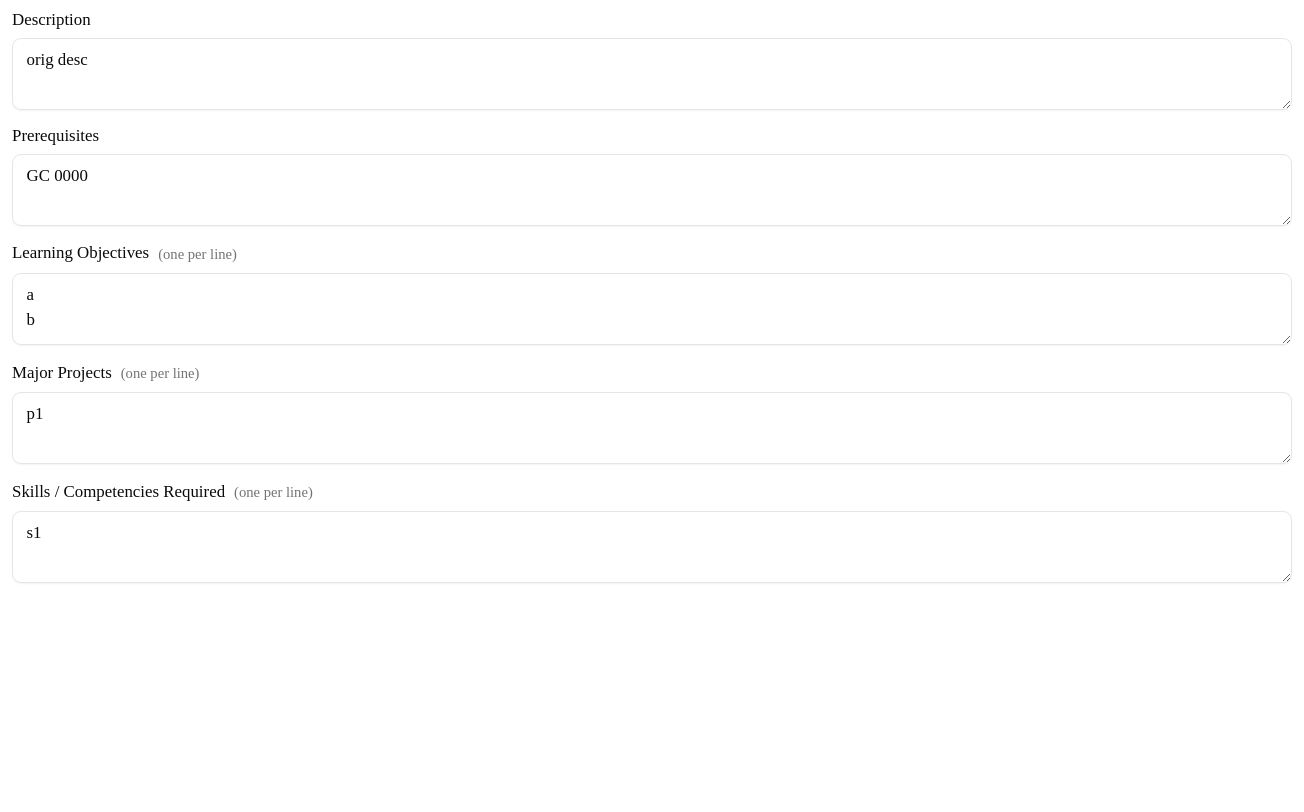
it: CourseDetails › shows Edited badge when description is changed and resets via the link
Replace the text in the text box labelled "Description" with "changed": x=652, y=74 [12,38,1292,110]
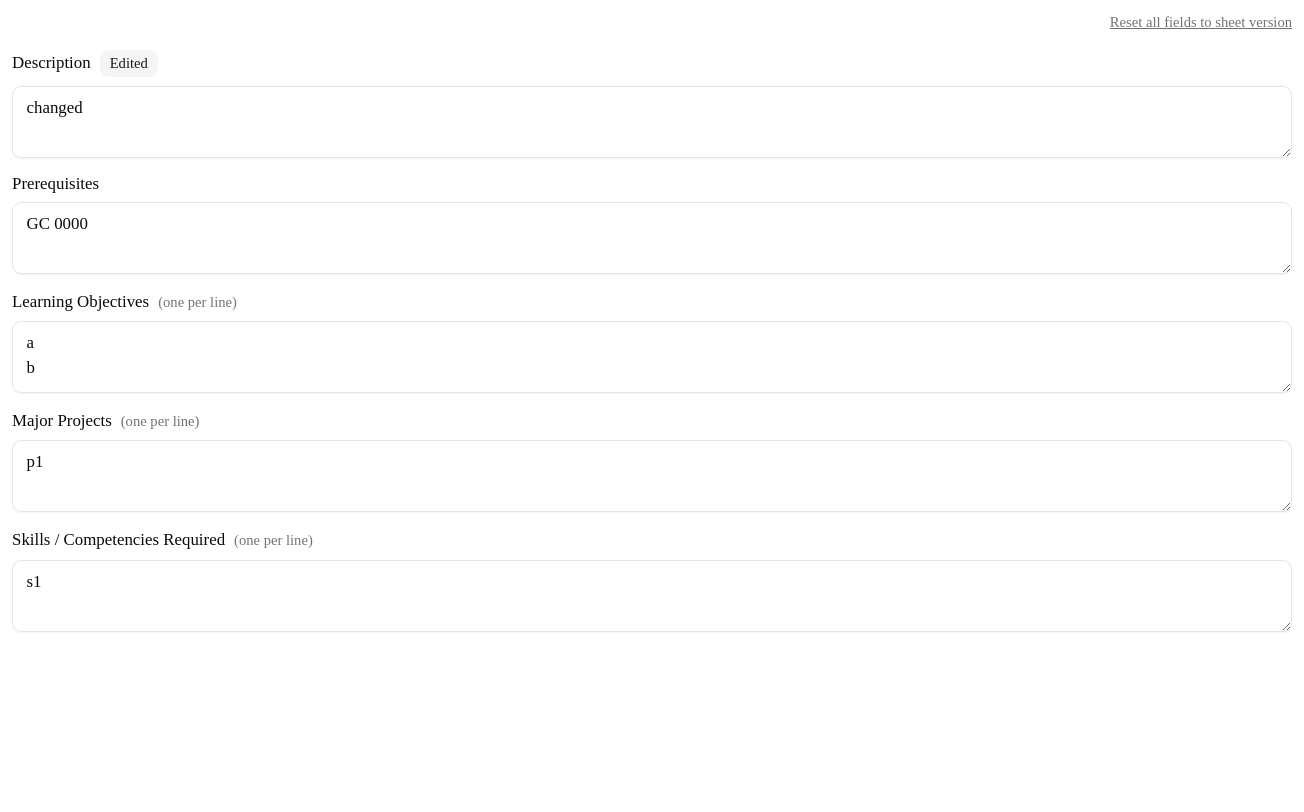
Now the text "Edited" is shown, box [100,50,158,77]
Click the button "Reset all fields to sheet version": x=1201, y=22 [1110,12,1292,32]
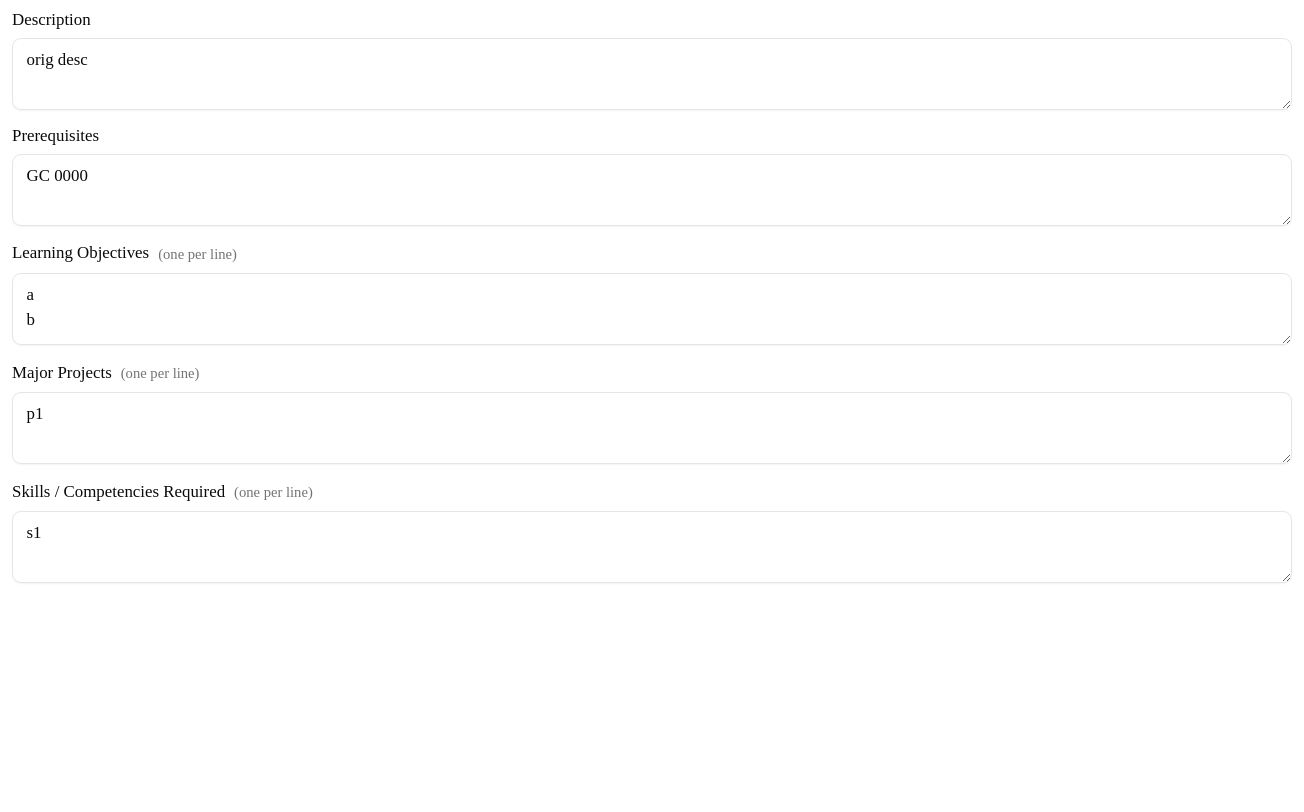
Now the text "Edited" is gone
